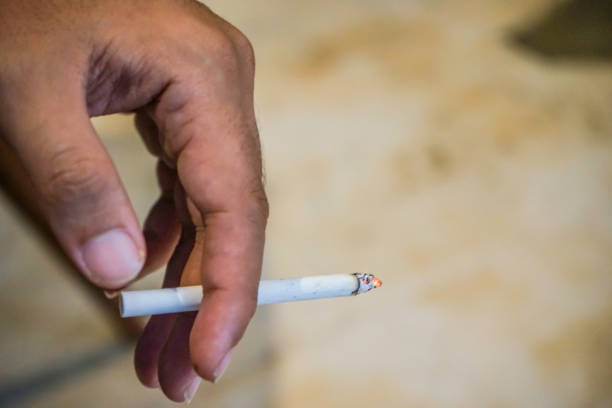cigarette: (119, 272, 383, 319)
